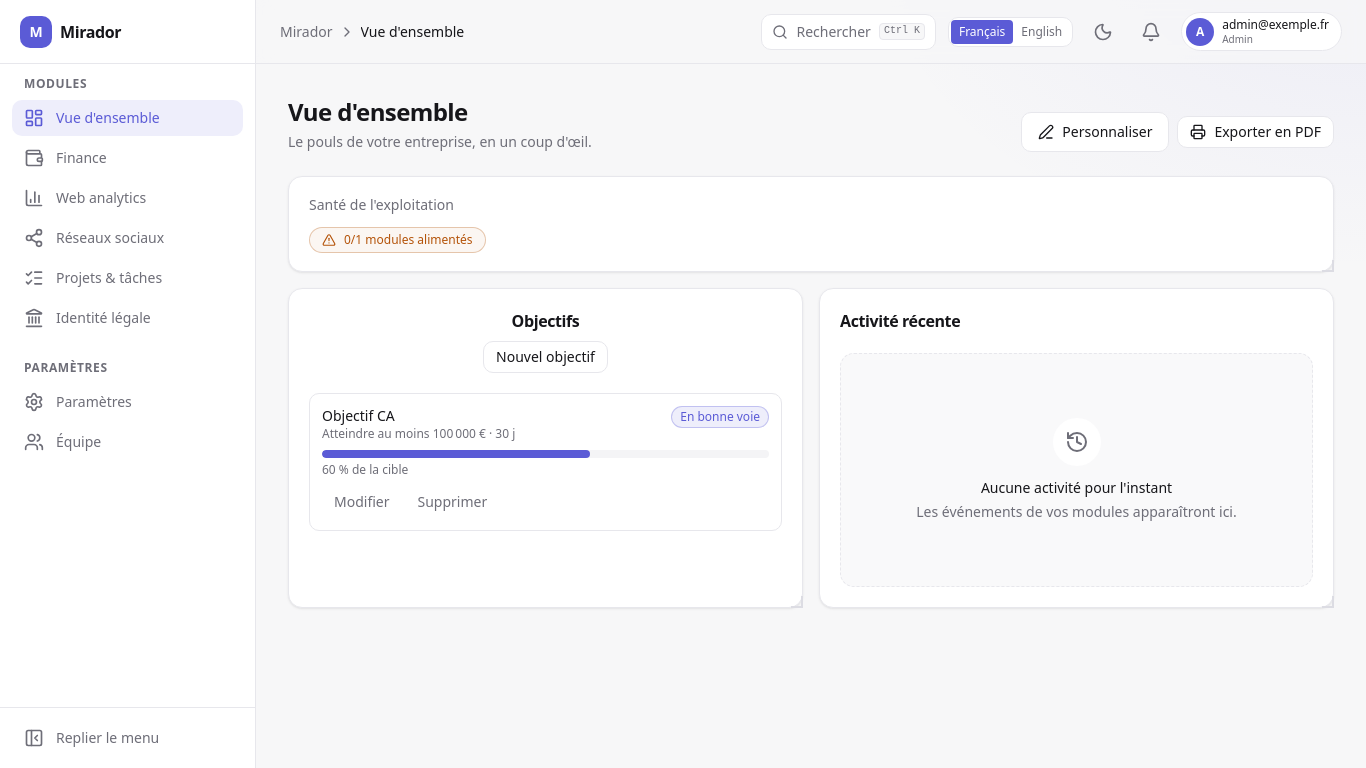
Scenario: DashboardPage › supprime un objectif après confirmation
The image size is (1366, 768).
Step 1. Click the button "Supprimer" → point(452, 502), box x1=406 y1=486 x2=499 y2=518
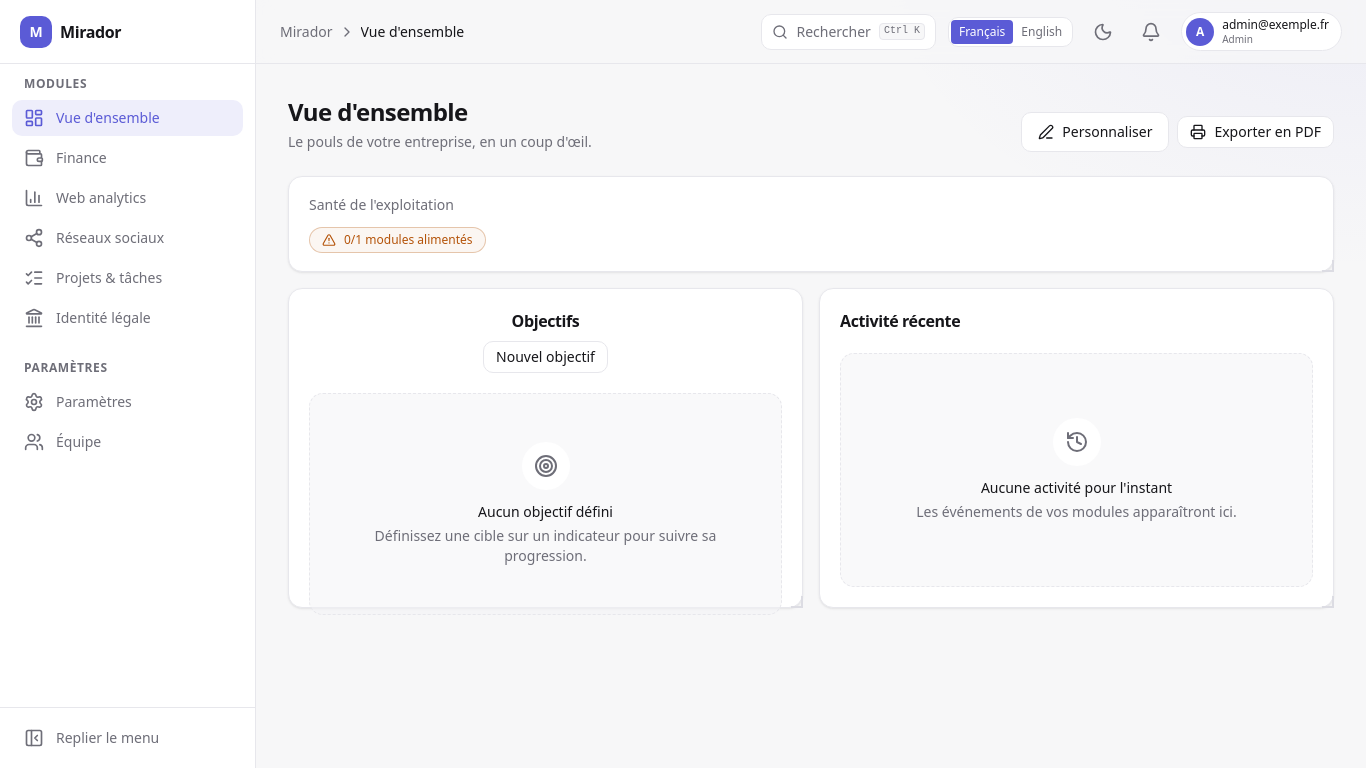
Now the text "Aucun objectif défini" is shown, box x1=478 y1=502 x2=613 y2=521
